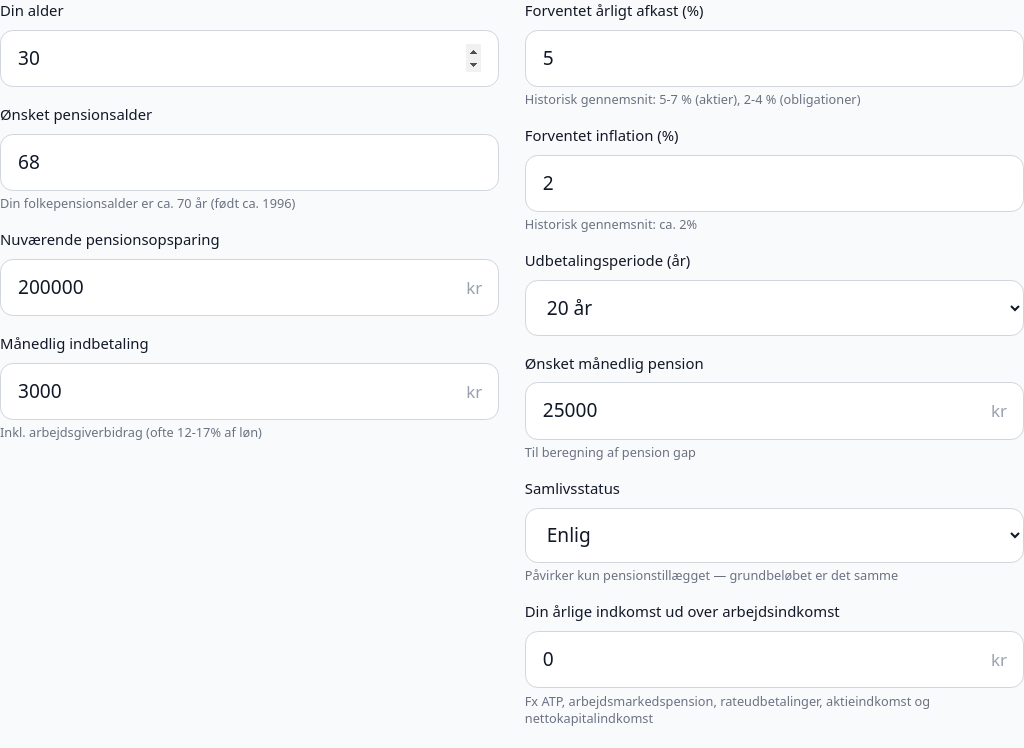
it: PensionBeregner — pensionstillæg efter indkomst › regner kun 46 % af samleverens indkomst med, når samleveren ikke er pensionist
The width and height of the screenshot is (1024, 748).
Select "Gift eller samlevende" in the dropdown labelled "Samlivsstatus": [774, 535] box [525,508,1023,563]
(page scrolled)
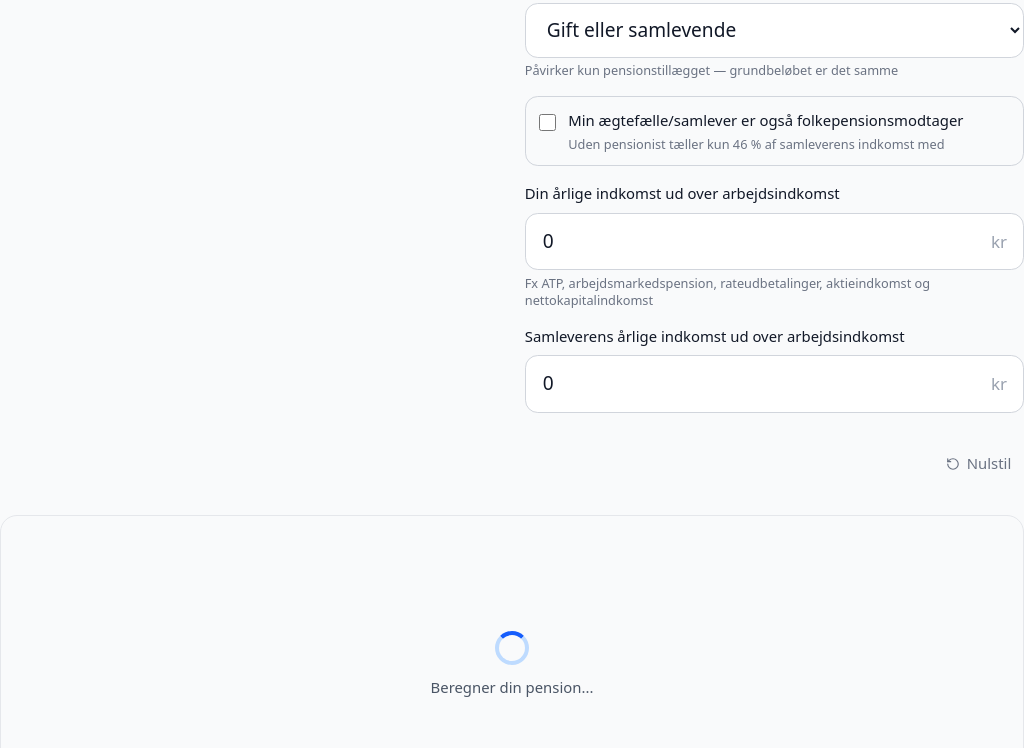
Replace the text in the number field labelled "Samleverens årlige indkomst ud over arbejdsindkomst" with "200000": [774, 384] box [525,355,1023,413]
(page scrolled)
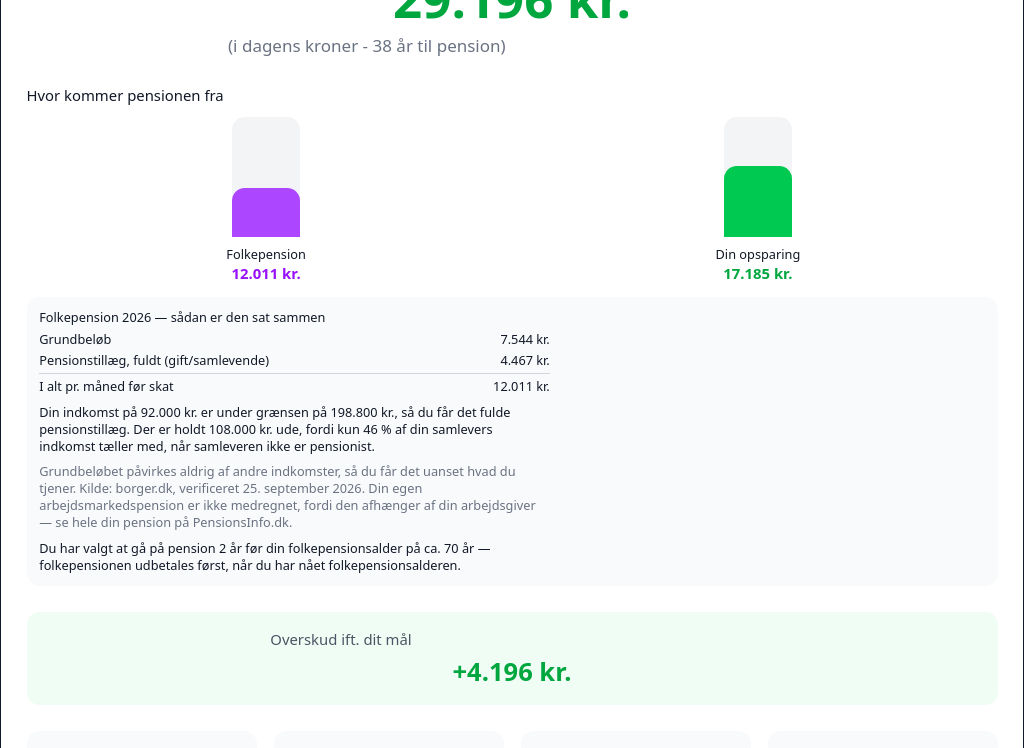
Expected: the text "kun 46 % af din samlevers indkomst tæller med" is shown, [39,420,493,455]
Expected: the list item "I alt pr. måned før skat" reads "I alt pr. måned før skat 12.011 kr.", [493,377,550,395]
